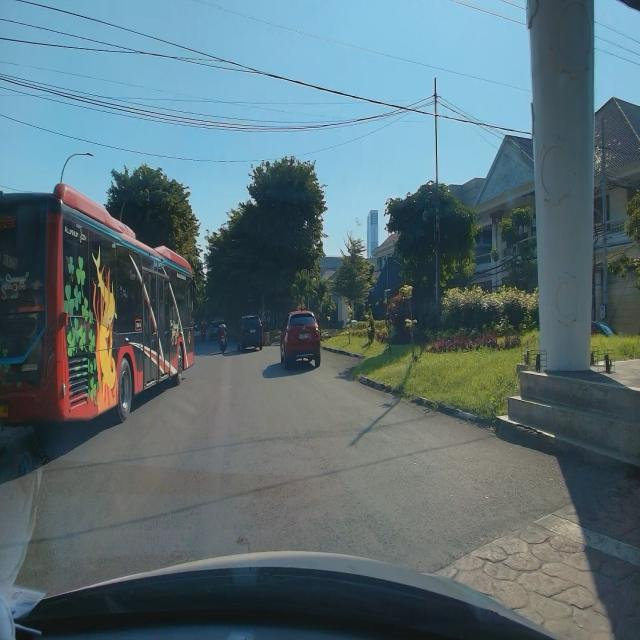bus: (0, 181, 195, 425)
car: (280, 311, 322, 368), (235, 314, 263, 352)
license-plate: (299, 333, 309, 339), (250, 329, 256, 333)
